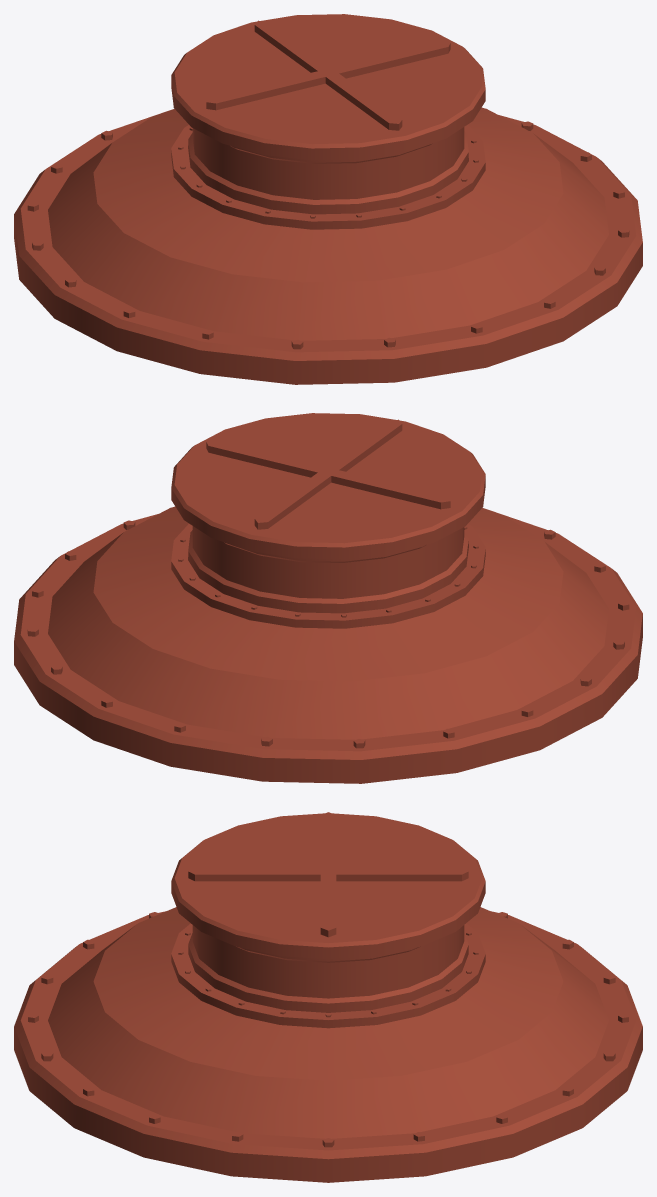
Rendered from Pipe_Converter.fbx.
3 views of the same model, one above another, from view 1: azimuth 30°, elevation 25°; view 2: azimuth 150°, elevation 25°; view 3: azimuth 270°, elevation 25° (orthographic).
Visible parts, largest first — view 1: Pipe_Converter; view 2: Pipe_Converter; view 3: Pipe_Converter.
Part boxes in pixels (x1,y1,x2,y2): Pipe_Converter: (14,14,642,384); Pipe_Converter: (14,413,642,783); Pipe_Converter: (14,812,642,1182).
Size of the model in its own units: 0.5785 by 0.1813 by 0.5785.
